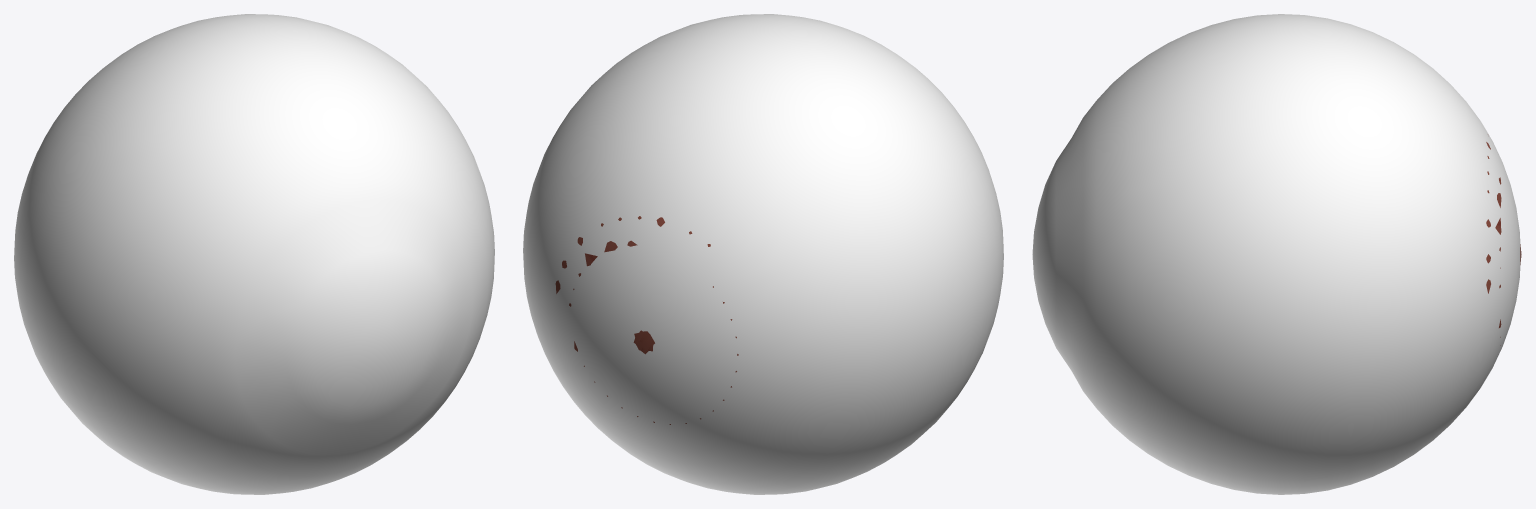
The model's file is eyeball.glb.
3 views of the same model, side by side, from view 1: azimuth 30°, elevation 25°; view 2: azimuth 150°, elevation 25°; view 3: azimuth 270°, elevation 25° (orthographic).
Parts seen in each view (by area): view 1: Eye; view 2: Eye; view 3: Eye.
Boxes of the visible parts, x1,y1,x2,y2 form: Eye: [14, 14, 494, 494]; Eye: [523, 14, 1003, 494]; Eye: [1032, 14, 1521, 494].
Bounding box in the file's own units: 0.1899 × 0.1899 × 0.1929.
2 materials, 1 textured.
